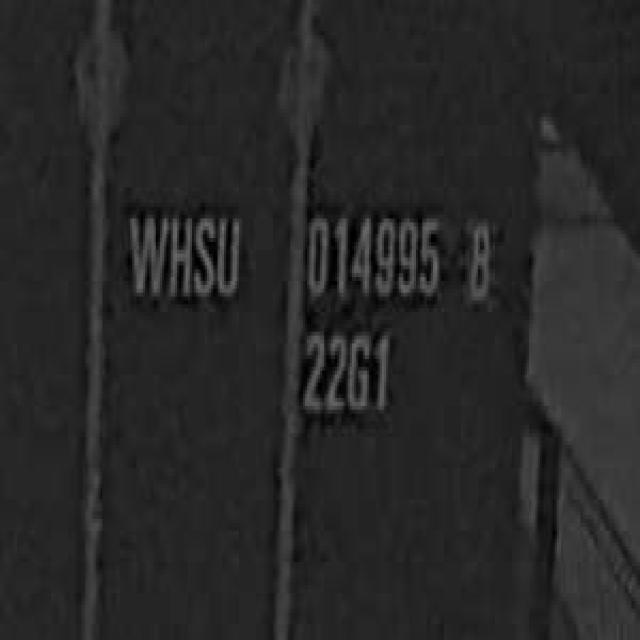dv: (463, 215, 495, 308)
owner: (122, 199, 245, 312)
serial: (303, 199, 444, 308)
size: (294, 320, 395, 425)
